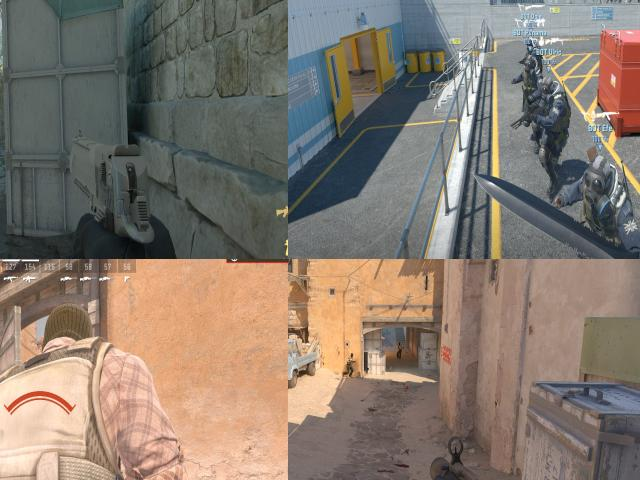CT: (578, 157, 634, 259), (543, 77, 570, 186), (526, 60, 542, 141), (523, 36, 542, 70)
CT-Head: (586, 156, 614, 201), (540, 78, 554, 99), (524, 57, 536, 72), (528, 38, 536, 50)
T: (0, 303, 136, 480), (346, 352, 356, 376), (396, 342, 403, 357)
T-Head: (41, 303, 98, 352), (350, 352, 354, 358), (398, 342, 401, 346)
